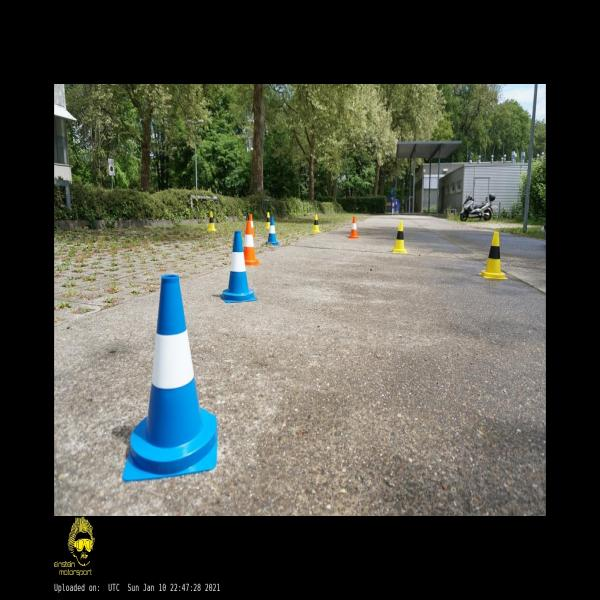blue_cone: (123, 274, 217, 480), (220, 230, 258, 303), (266, 216, 278, 246)
orange_cone: (243, 221, 261, 265), (348, 216, 359, 238), (248, 215, 256, 236)
yellow_cone: (480, 232, 508, 280), (392, 222, 407, 252), (207, 211, 216, 231), (312, 214, 320, 232), (264, 212, 270, 228)
